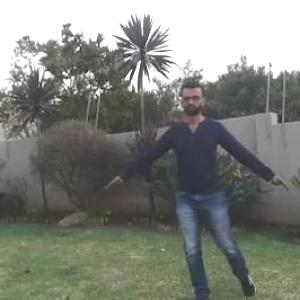land: (126, 90, 266, 262)
